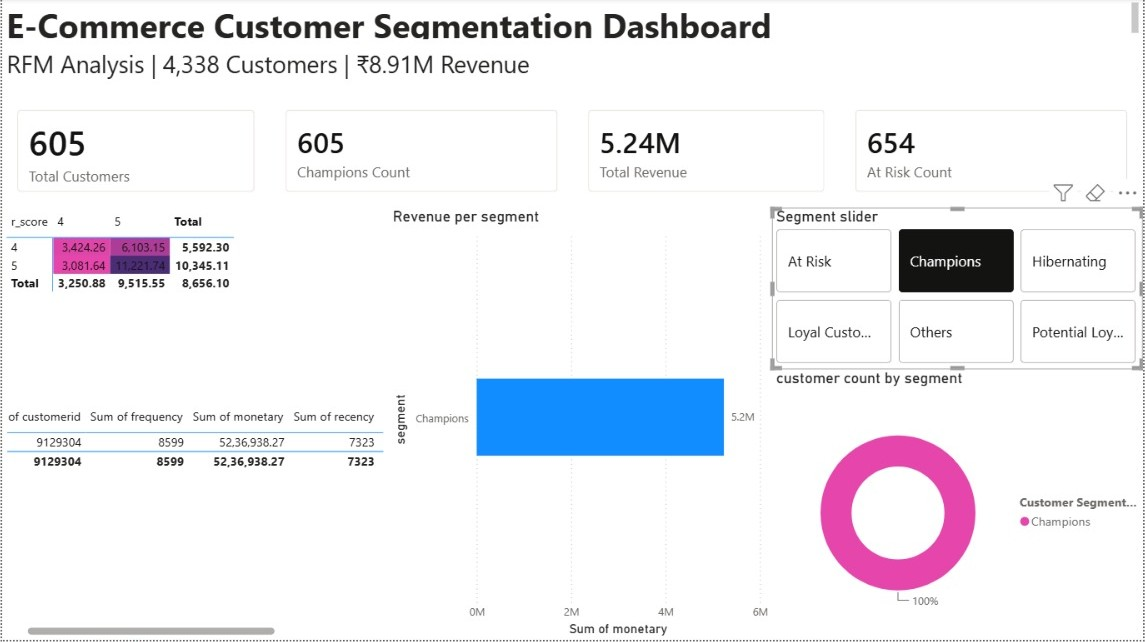

What the dashboard file says about the page in this screenshot:
{"tool":"powerbi","page":{"name":"Page 1","canvas":[1280,720],"ordinal":0},"visuals":[{"type":"cardVisual","fields":{"Data":["Count(powerbi_rfm.customerid)"]},"box":[0,108.2,300.9,126.8],"z":0},{"type":"cardVisual","fields":{"Data":["Sum(powerbi_rfm.monetary)"]},"box":[640.7,108.2,299.2,126.8],"z":1000},{"type":"cardVisual","fields":{"Data":["powerbi_rfm.Champions Count"]},"box":[300.9,108.2,339.8,126.8],"z":2000},{"type":"donutChart","title":"customer count by segment","fields":{"Category":["powerbi_rfm.segment"],"Y":["Count(powerbi_rfm.customerid)"]},"box":[863.9,415.9,415.9,304.3],"z":3000},{"type":"clusteredBarChart","title":"Revenue per segment","fields":{"Category":["powerbi_rfm.segment"],"Y":["Sum(powerbi_rfm.monetary)"]},"box":[432.8,235,431.1,485.2],"z":4000},{"type":"cardVisual","fields":{"Data":["powerbi_rfm.At Risk Count"]},"box":[939.9,108.2,339.8,126.8],"z":5000},{"type":"textbox","box":[0,0,1279.7,50.7],"z":6000},{"type":"textbox","box":[0,50.7,1279.7,57.5],"z":7000},{"type":"pivotTable","fields":{"Rows":["powerbi_rfm.r_score"],"Columns":["powerbi_rfm.f_score"],"Values":["Avg(powerbi_rfm.monetary)"]},"box":[0,235,432.8,219.8],"z":8000},{"type":"tableEx","fields":{"Values":["Sum(powerbi_rfm.customerid)","Sum(powerbi_rfm.frequency)","Sum(powerbi_rfm.monetary)","Sum(powerbi_rfm.recency)","Sum(powerbi_rfm.rfm_score)","powerbi_rfm.segment"]},"box":[0,454.8,432.8,265.4],"z":9000},{"type":"advancedSlicerVisual","title":"Segment slider","fields":{"Values":["powerbi_rfm.segment"]},"box":[863.9,235,415.9,180.9],"z":10000}]}

Visuals, with their boxes in screenshot pixels (x1, y1, x2, y2), scaled from the page's 1280x720 canvas onto the 1145x642 screenshot:
cardVisual - Count(powerbi_rfm.customerid): 0, 96, 269, 210
cardVisual - Sum(powerbi_rfm.monetary): 573, 96, 841, 210
cardVisual - powerbi_rfm.Champions Count: 269, 96, 573, 210
"customer count by segment" donutChart: 773, 371, 1144, 641
"Revenue per segment" clusteredBarChart: 387, 210, 773, 641
cardVisual - powerbi_rfm.At Risk Count: 841, 96, 1144, 210
textbox: 0, 0, 1144, 45
textbox: 0, 45, 1144, 96
pivotTable - powerbi_rfm.r_score x powerbi_rfm.f_score: 0, 210, 387, 406
tableEx - Sum(powerbi_rfm.customerid) x Sum(powerbi_rfm.frequency): 0, 406, 387, 641
"Segment slider" advancedSlicerVisual: 773, 210, 1144, 371
